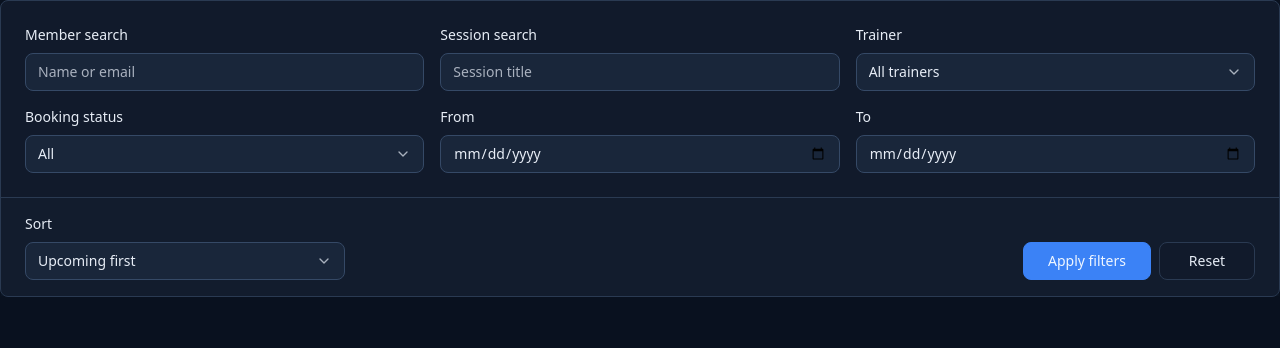
Scenario: BookingsFilters › toggles multiple statuses independently through the shared multi-select
Click the button with aria-label "Booking status: All" at (46, 154), box [25,135,424,173]
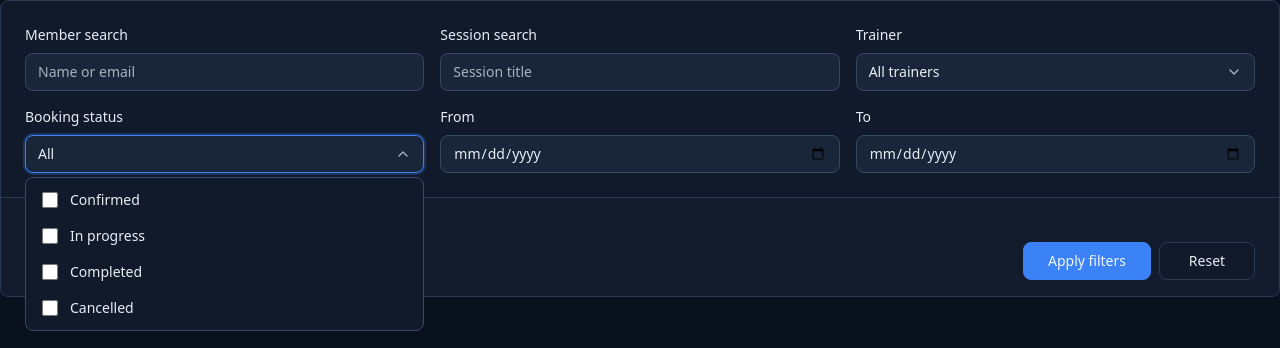
Click the checkbox named "Booking status: Confirmed" at (50, 200), box [42,192,58,208]
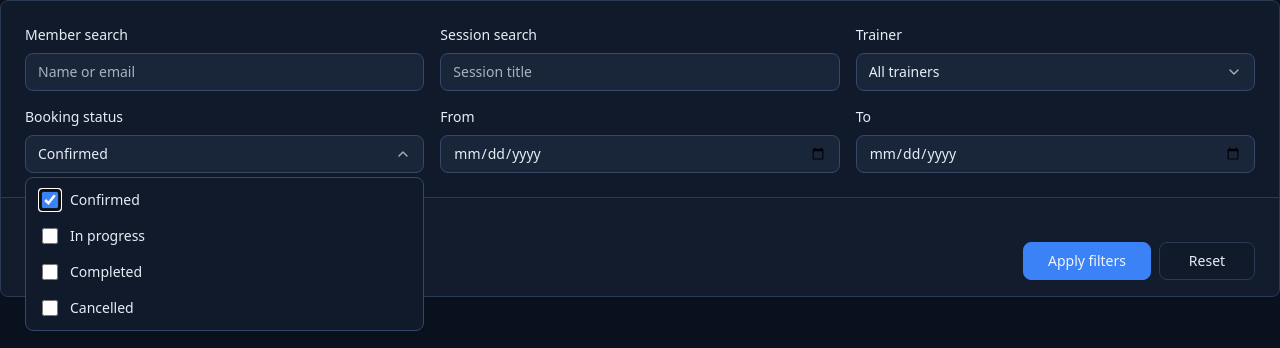
Click the checkbox named "Booking status: Completed" at (50, 272), box [42,264,58,280]
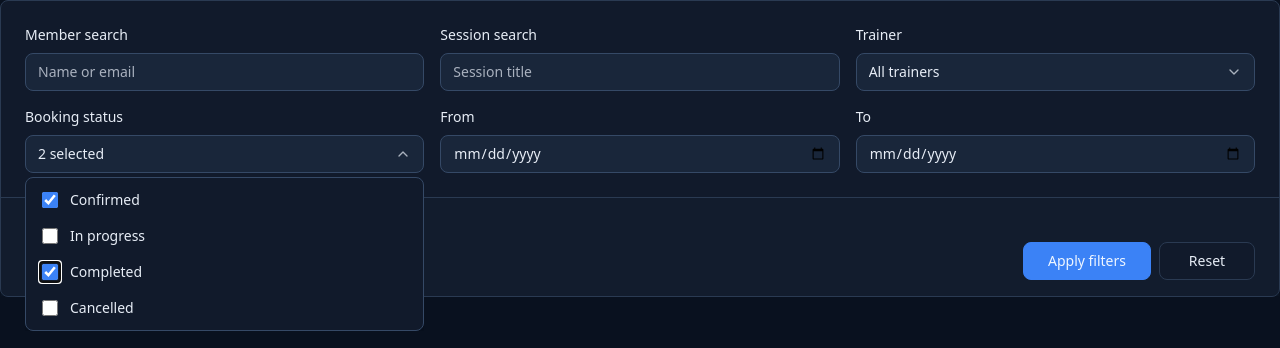
Result: the button with aria-label "Booking status: 2 selected" is shown at [25,135,424,173]
Click the checkbox named "Booking status: Confirmed" at (50, 200), box [42,192,58,208]
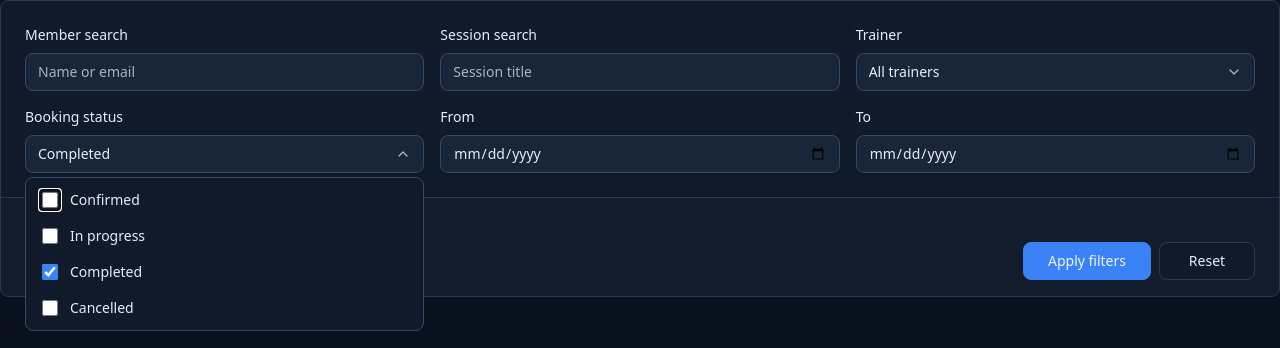
Result: the button with aria-label "Booking status: Completed" is shown at [25,135,424,173]
